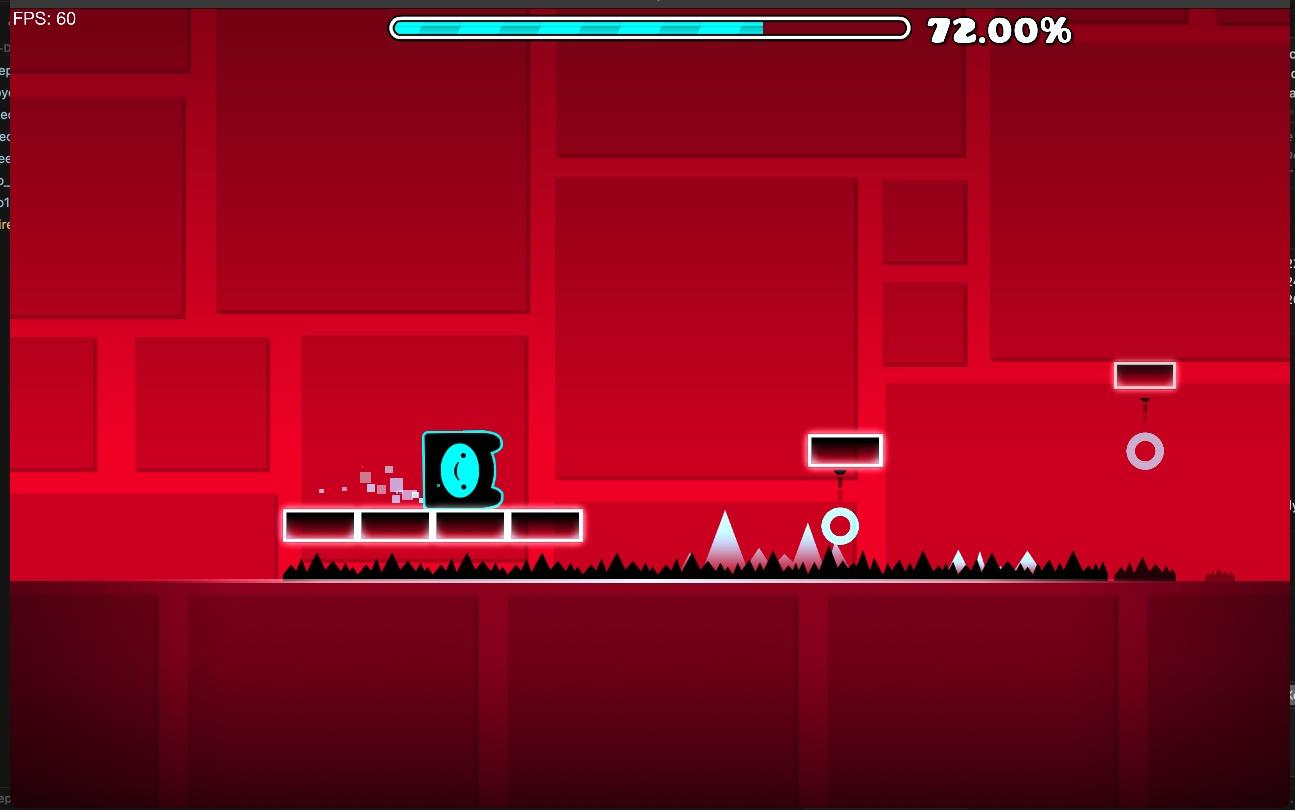platform: (281, 511, 583, 541), (813, 436, 881, 465), (1116, 363, 1178, 386)
player: (422, 430, 502, 508)
spike: (284, 513, 1176, 581)
